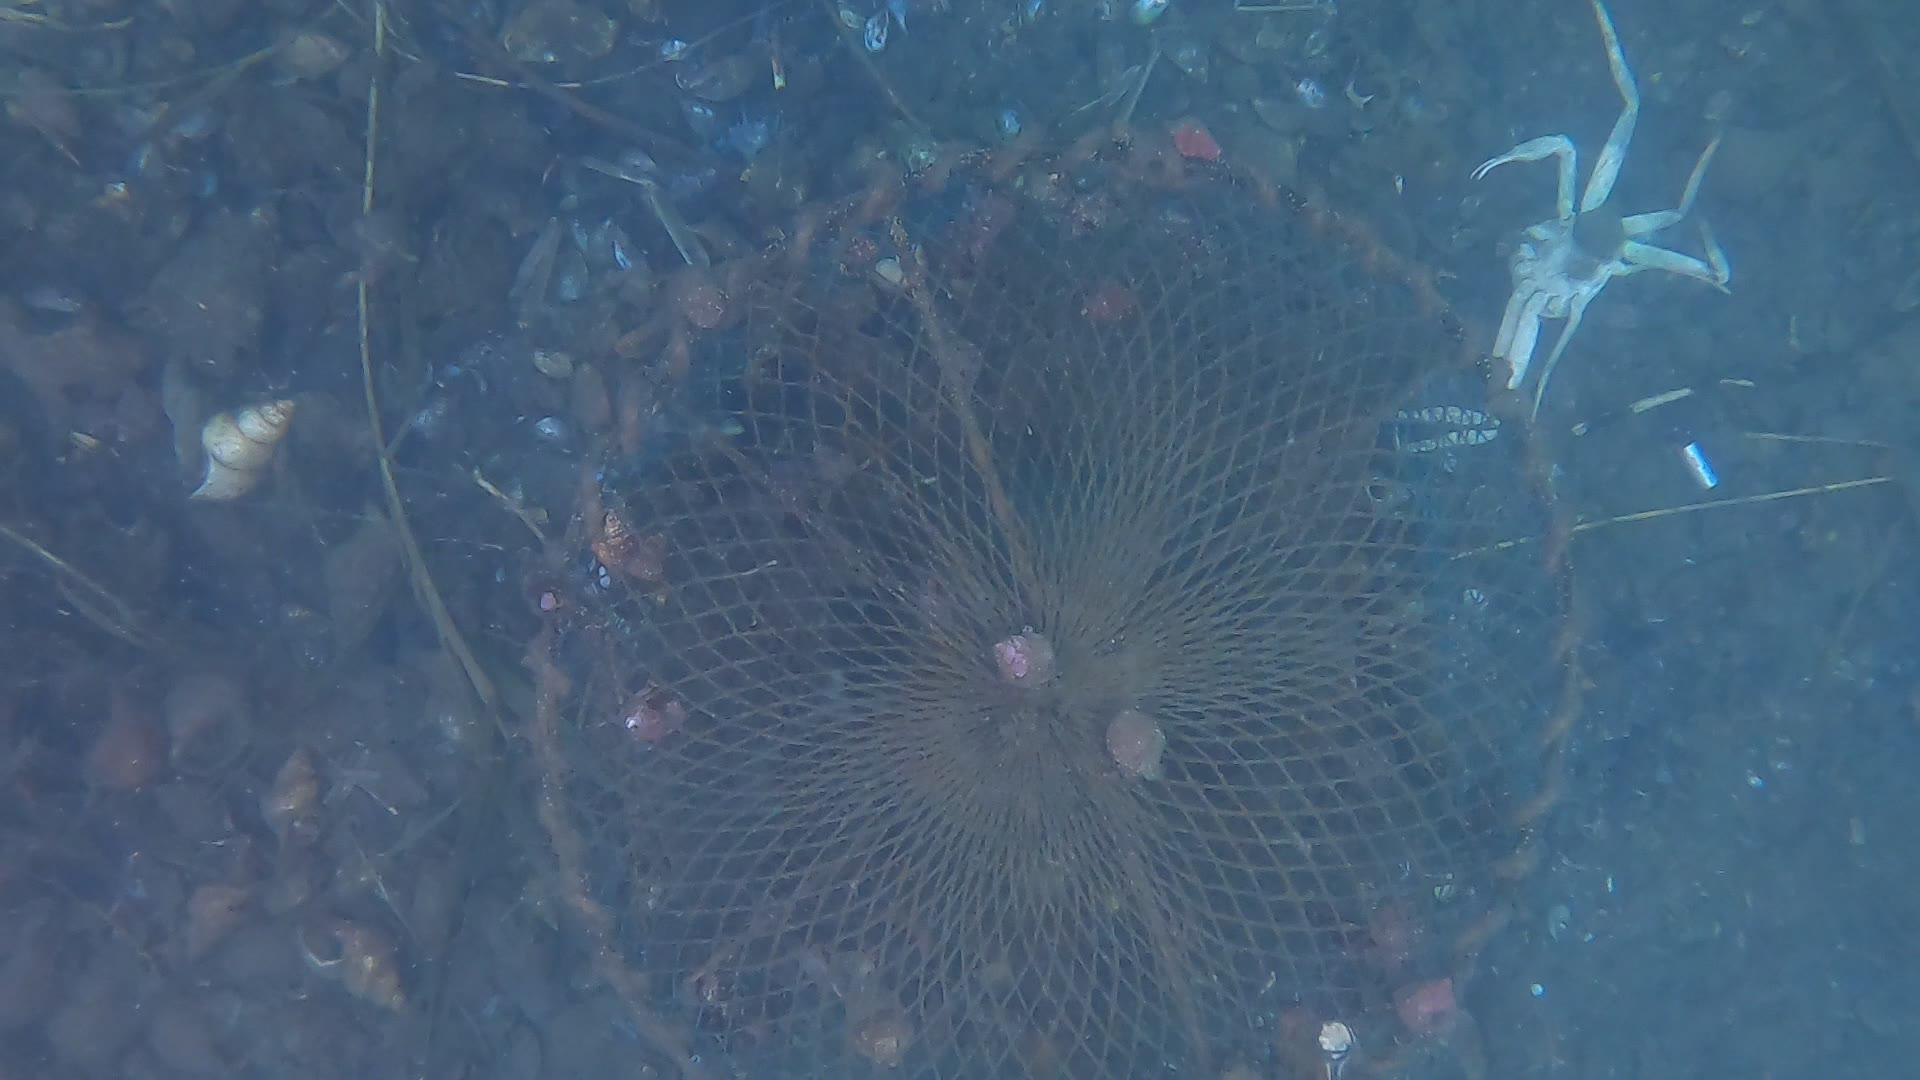circular fish trap: (525, 129, 1590, 1080)
